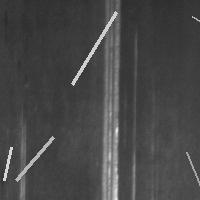scratches: (97, 1, 124, 199), (67, 7, 121, 89), (11, 132, 58, 185), (15, 113, 31, 200), (181, 147, 200, 194), (0, 142, 16, 185), (187, 11, 200, 59)
